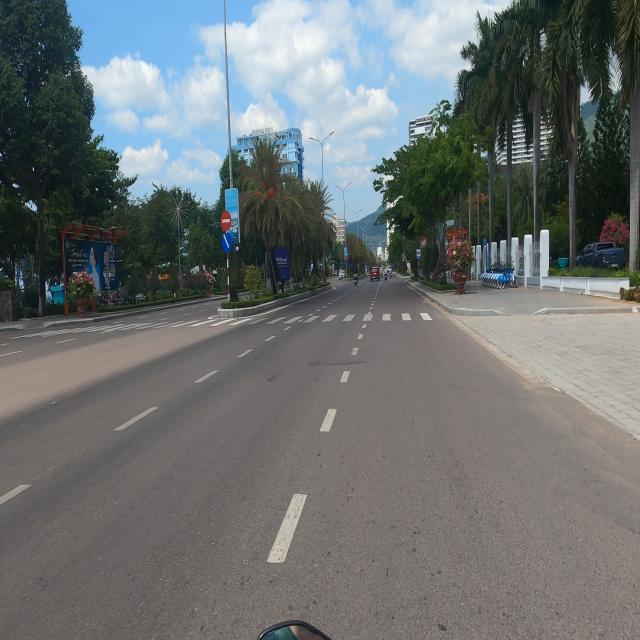walk-crossing: (198, 308, 434, 324)
